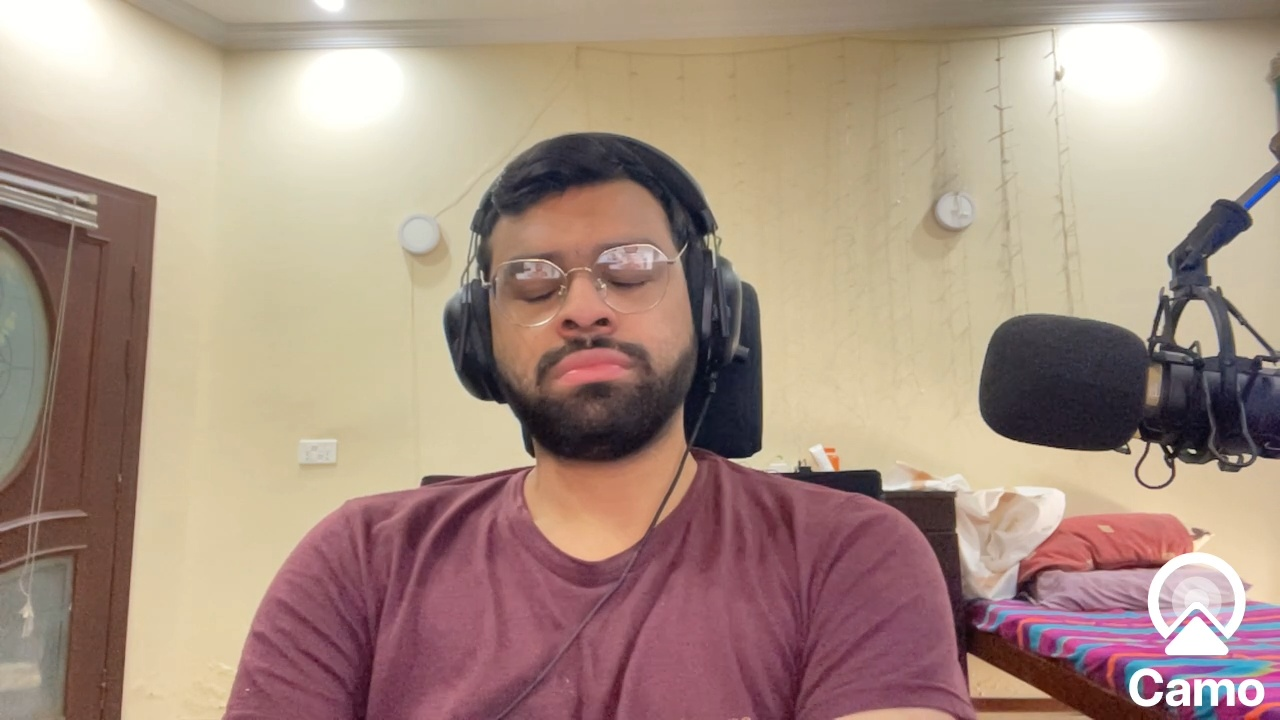neutral: (466, 185, 710, 470)
